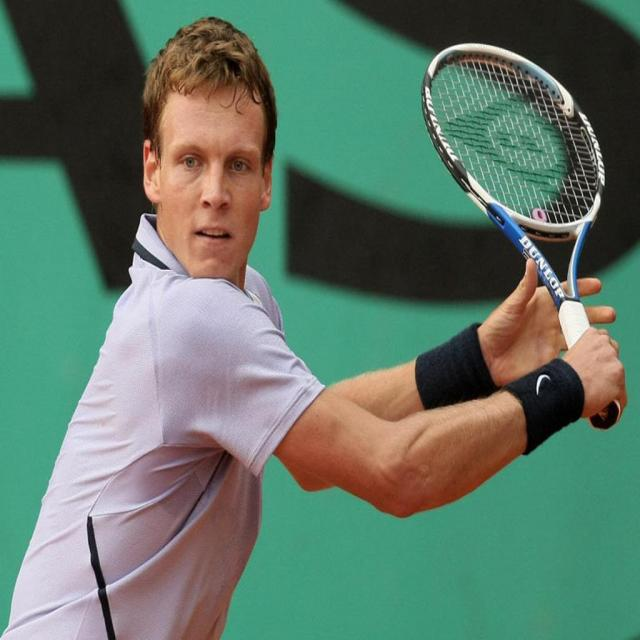nomask: (158, 84, 262, 278)
